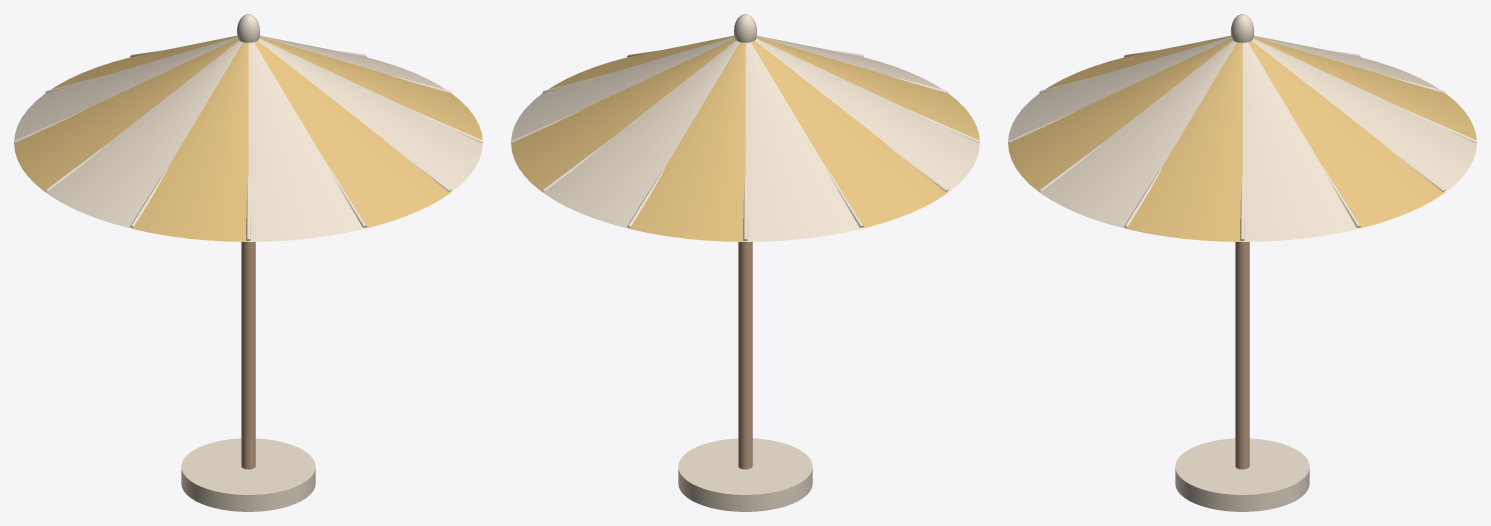
The model's file is umbrellaYellow.glb.
3 views of the same model, side by side, from view 1: azimuth 30°, elevation 25°; view 2: azimuth 150°, elevation 25°; view 3: azimuth 270°, elevation 25° (orthographic).
Visible parts, largest first — view 1: canopy stripe (×10), circular moulding, umbrella pole, canopy cap; view 2: canopy stripe (×10), circular moulding, umbrella pole, canopy cap; view 3: canopy stripe (×10), circular moulding, umbrella pole, canopy cap.
Part boxes in pixels (left/top/right/bottom): canopy stripe (×10): left=14, top=35, right=482, bottom=241; circular moulding: left=181, top=438, right=315, bottom=511; umbrella pole: left=241, top=242, right=255, bottom=469; canopy cap: left=237, top=14, right=259, bottom=42; canopy stripe (×10): left=511, top=35, right=979, bottom=241; circular moulding: left=678, top=438, right=812, bottom=511; umbrella pole: left=738, top=242, right=752, bottom=469; canopy cap: left=734, top=14, right=756, bottom=42; canopy stripe (×10): left=1008, top=35, right=1476, bottom=241; circular moulding: left=1175, top=438, right=1309, bottom=511; umbrella pole: left=1235, top=242, right=1249, bottom=469; canopy cap: left=1230, top=14, right=1254, bottom=42.
Size of the model in its own units: 3 by 3.31 by 3.
